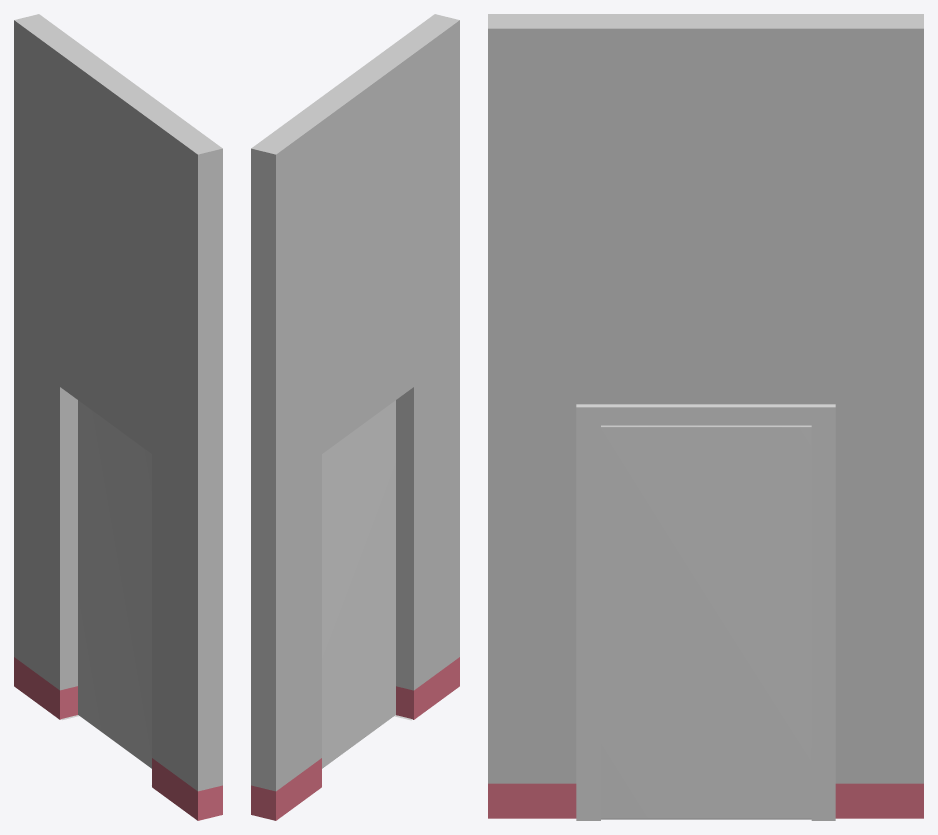
File: sm_Pared_puerta.fbx
3 views of the same model, side by side, from view 1: azimuth 30°, elevation 25°; view 2: azimuth 150°, elevation 25°; view 3: azimuth 270°, elevation 25° (orthographic). The views are drawn at different scales.
Visible parts, largest first — view 1: sm_Pared_puerta_, sm_Puerta; view 2: sm_Pared_puerta_, sm_Puerta; view 3: sm_Pared_puerta_, sm_Puerta, sm_Marco_puerta.
Part boxes in pixels (x1,y1,x2,y2): sm_Pared_puerta_: [14, 14, 222, 820]; sm_Puerta: [78, 400, 151, 768]; sm_Pared_puerta_: [251, 14, 459, 820]; sm_Puerta: [322, 400, 395, 768]; sm_Pared_puerta_: [488, 14, 923, 818]; sm_Puerta: [601, 425, 811, 819]; sm_Marco_puerta: [576, 404, 835, 820].
Bounding box in the file's own units: 18.99 × 400 × 200.
